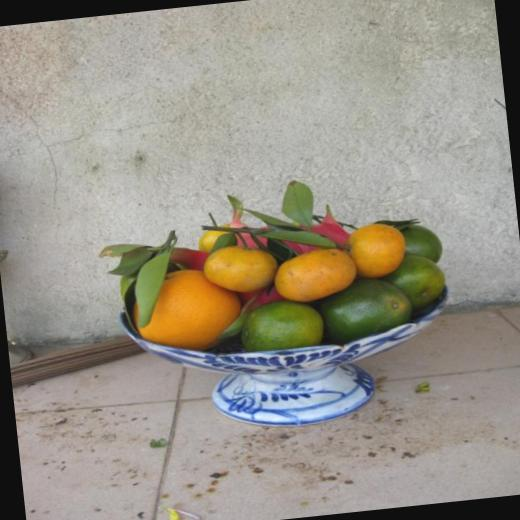Grape: (125, 199, 452, 365)
